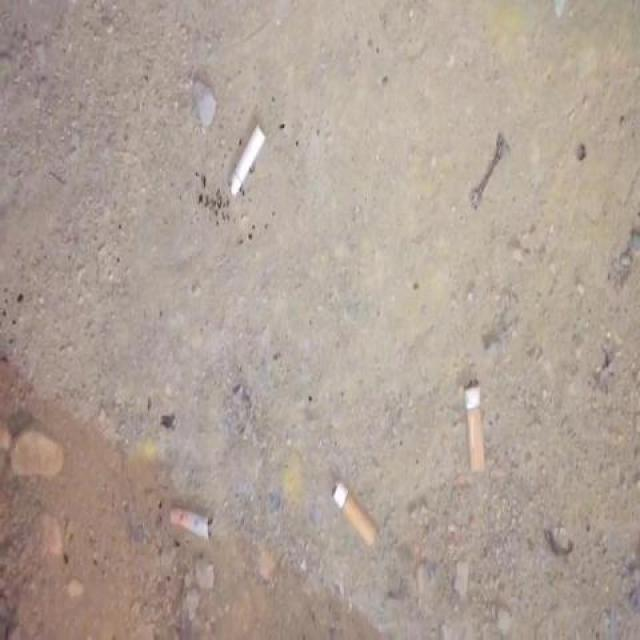non-organic waste: (327, 478, 385, 554), (458, 374, 491, 482), (227, 120, 266, 196), (163, 498, 218, 546)
